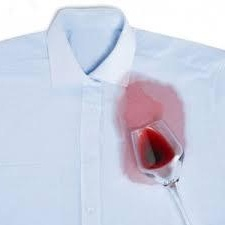wine: (119, 83, 185, 127), (115, 129, 131, 167), (119, 170, 154, 183)
